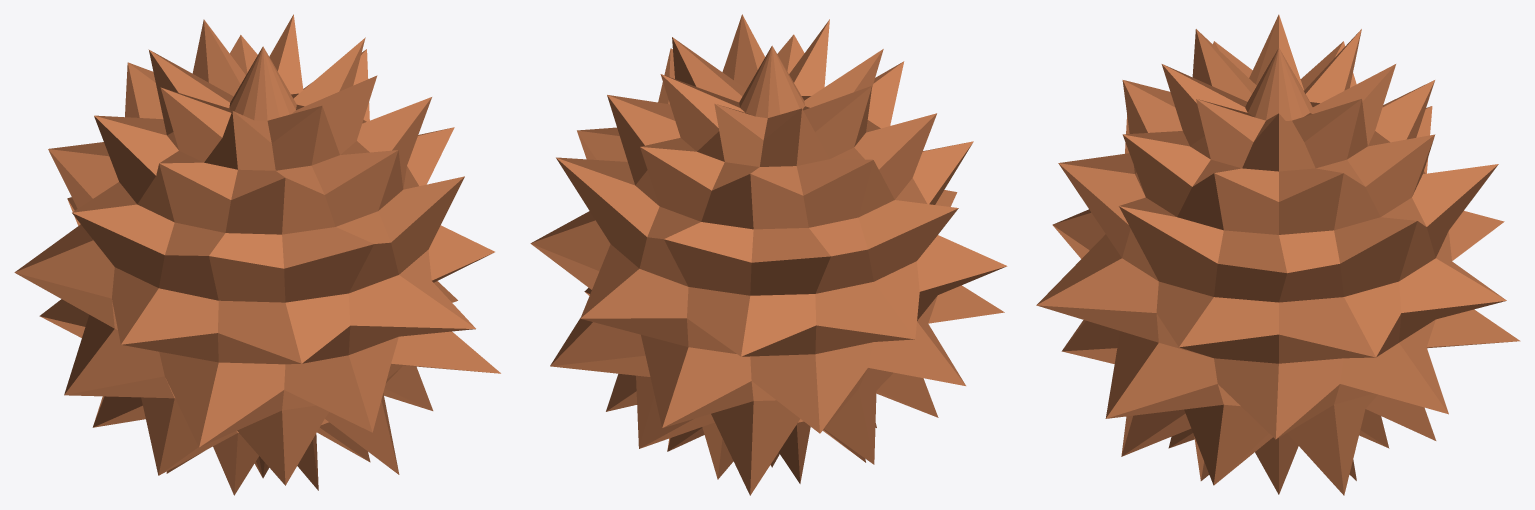
Rendered from bamsongi.fbx.
3 renders of one model, left to right at view 1: azimuth 30°, elevation 25°; view 2: azimuth 150°, elevation 25°; view 3: azimuth 270°, elevation 25°, orthographic. The views are drawn at different scales.
Parts seen in each view (by area): view 1: Sphere; view 2: Sphere; view 3: Sphere.
Boxes of the visible parts, x1,y1,x2,y2 form: Sphere: (14, 14, 500, 495); Sphere: (530, 14, 1007, 495); Sphere: (1036, 14, 1520, 495).
Bounding box in the file's own units: 67.07 × 69.72 × 71.36.
